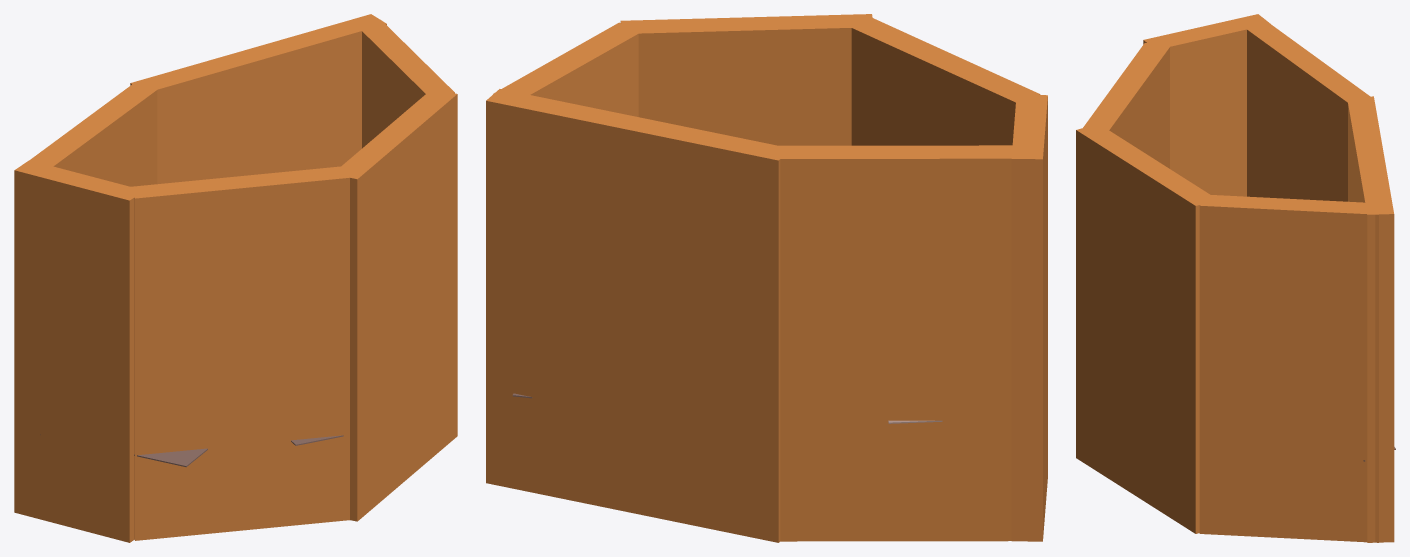
Rendered from GrandCanyon2.fbx.
3 renders of one model, left to right at view 1: azimuth 30°, elevation 25°; view 2: azimuth 150°, elevation 25°; view 3: azimuth 270°, elevation 25°, orthographic. The views are drawn at different scales.
Visible parts, largest first — view 1: Cube__13_, Cube__1_, Cube__7_, Cube__9_, Cube__8_, Cube__11_, PlatformBlock_91; view 2: Cube__9_, Cube__8_, Cube__7_, Cube__13_, Cube__1_, Cube__11_; view 3: Cube__11_, Cube__7_, Cube__8_, Cube__1_, Cube__9_, Cube__13_.
Part boxes in pixels (x1,y1,x2,y2): Cube__13_: (129,165,354,540); Cube__1_: (14,160,144,542); Cube__7_: (336,89,457,521); Cube__9_: (130,14,386,184); Cube__8_: (26,84,157,186); Cube__11_: (356,19,454,148); PlatformBlock_91: (40,434,207,467); Cube__9_: (486,89,791,542); Cube__8_: (771,145,1022,541); Cube__7_: (620,14,873,145); Cube__13_: (847,16,1040,145); Cube__1_: (1011,94,1047,541); Cube__11_: (493,22,643,116); Cube__11_: (1199,194,1381,542); Cube__7_: (1076,124,1217,533); Cube__8_: (1243,21,1373,201); Cube__1_: (1143,14,1270,196); Cube__9_: (1348,96,1394,542); Cube__13_: (1083,43,1169,168).
Size of the model in its own units: 15873 by 12094 by 10681.
